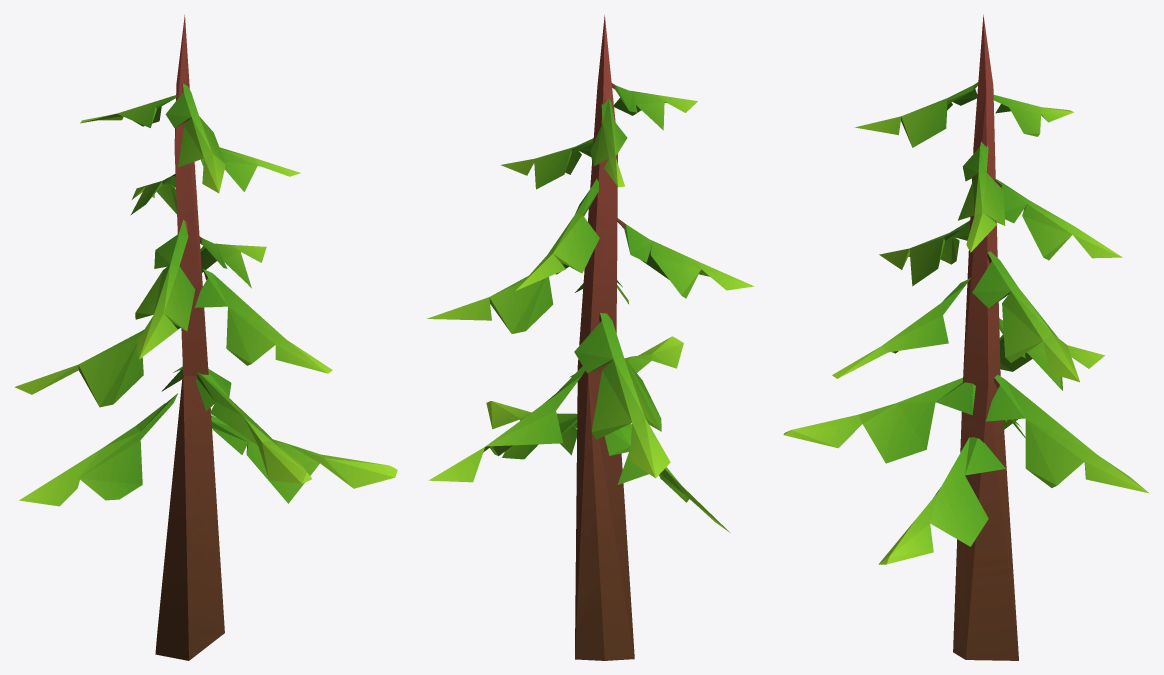
3 renders of one model, left to right at view 1: azimuth 30°, elevation 25°; view 2: azimuth 150°, elevation 25°; view 3: azimuth 270°, elevation 25°, orthographic.
Visible parts, largest first — view 1: Conifer1_Distant; view 2: Conifer1_Distant; view 3: Conifer1_Distant.
Part boxes in pixels (<box>): Conifer1_Distant: <box>14,15,397,660</box>; Conifer1_Distant: <box>427,15,754,660</box>; Conifer1_Distant: <box>783,14,1148,660</box>.
Size of the model in its own units: 6.82 by 13.27 by 6.85.
1 material, 1 textured.
